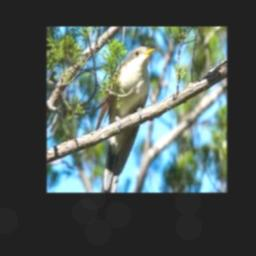Cuckoo: (94, 45, 156, 192)
